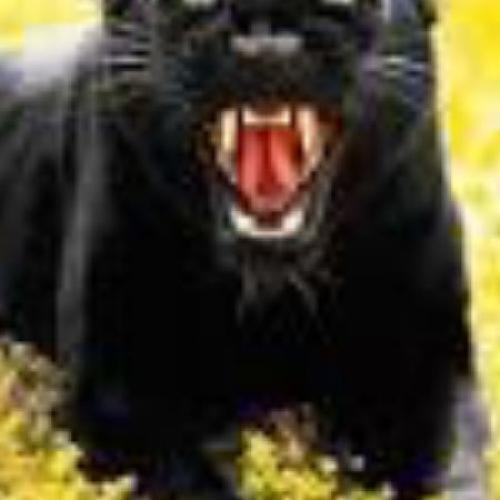panther-endangered: (12, 9, 488, 479)
